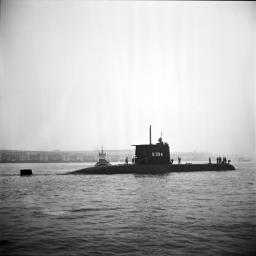submarine: (18, 126, 235, 176)
